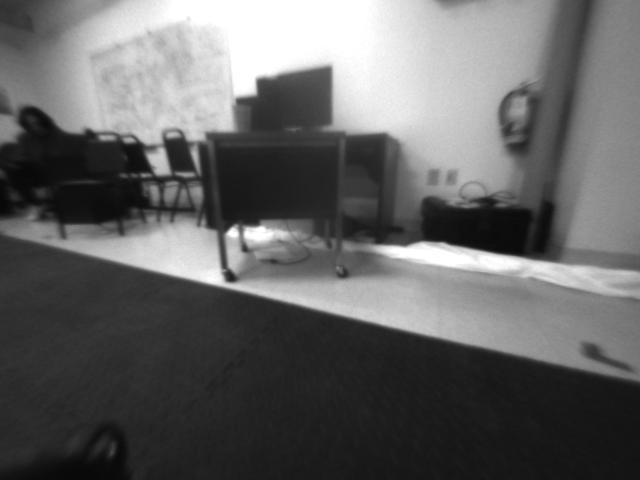coffee_cup: (228, 102, 254, 131)
